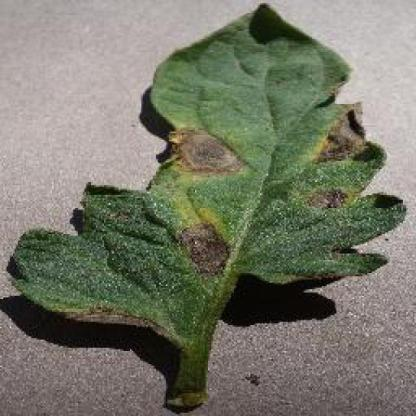Tomato_Blight: (8, 4, 406, 342)
